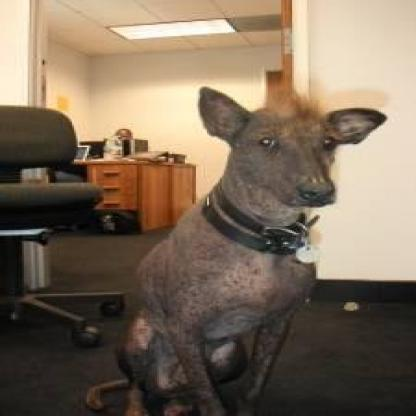Mexican_hairless: (83, 86, 385, 413)
